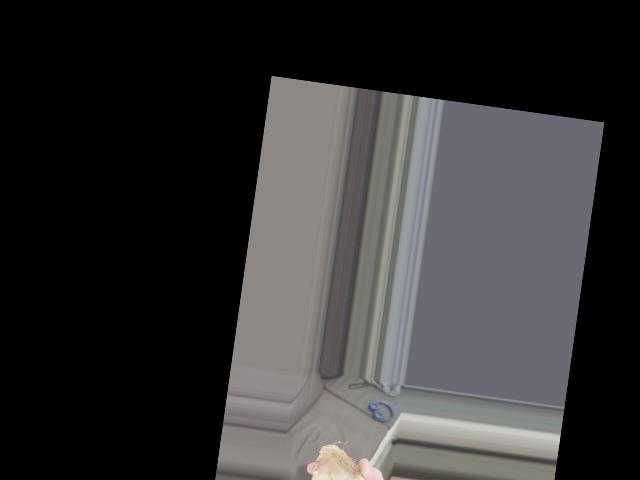onion: (305, 440, 379, 480)
